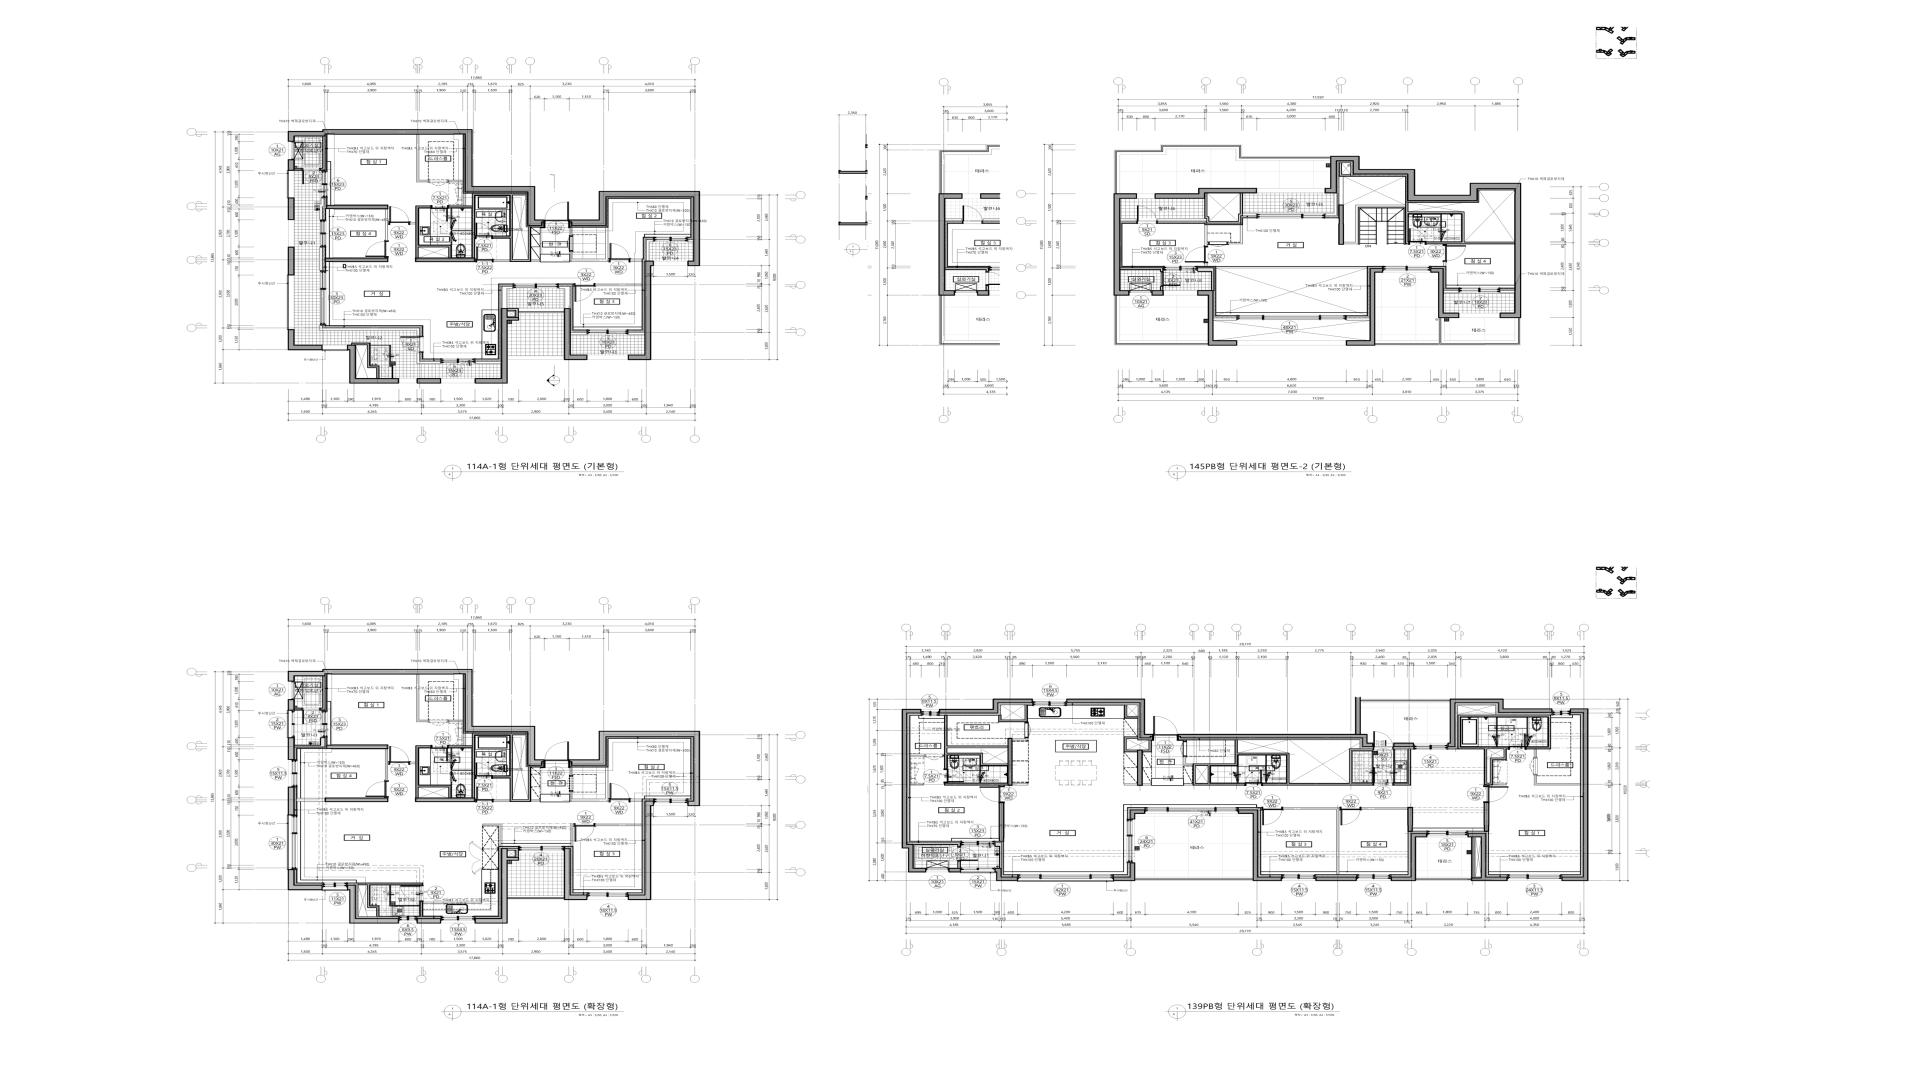door: (543, 742, 570, 769), (543, 203, 570, 228), (1153, 716, 1178, 741), (608, 783, 630, 803), (608, 243, 630, 262), (1484, 786, 1509, 803), (980, 786, 1005, 803), (1261, 807, 1283, 825), (388, 207, 410, 225), (365, 781, 389, 798), (1443, 244, 1466, 261), (1340, 807, 1361, 825), (1373, 767, 1394, 786), (1373, 732, 1394, 750), (574, 823, 595, 841), (388, 746, 409, 765), (574, 284, 595, 302), (1137, 206, 1158, 224), (400, 886, 423, 902), (365, 241, 389, 257), (400, 336, 423, 352), (1185, 247, 1208, 262), (475, 762, 493, 779), (302, 167, 320, 185), (1408, 228, 1427, 245), (957, 847, 978, 861), (943, 769, 964, 783), (1509, 733, 1526, 750), (431, 745, 448, 762), (475, 787, 493, 803), (302, 708, 320, 724), (475, 247, 493, 262), (475, 223, 493, 239), (1160, 272, 1180, 286), (1245, 770, 1262, 786), (431, 206, 448, 222), (1530, 758, 1538, 775), (429, 179, 448, 186), (924, 754, 944, 761), (429, 720, 448, 725), (1208, 241, 1228, 247), (1025, 723, 1031, 738)
wall: (1325, 156, 1522, 318), (287, 669, 543, 766), (287, 129, 543, 225), (1114, 145, 1331, 194), (570, 731, 700, 806), (570, 191, 700, 266), (1178, 698, 1373, 748), (1184, 740, 1373, 786), (1344, 202, 1514, 244), (1458, 715, 1551, 786), (448, 733, 539, 802), (448, 194, 539, 262), (1448, 699, 1552, 748), (1561, 708, 1589, 881), (1114, 295, 1208, 345), (1375, 318, 1520, 345), (902, 709, 926, 873), (1283, 807, 1340, 874), (475, 848, 520, 924), (944, 715, 1007, 769), (1067, 699, 1153, 738), (475, 309, 520, 384), (1238, 810, 1282, 881), (1346, 268, 1383, 345), (1158, 194, 1257, 223), (628, 800, 654, 901), (628, 261, 654, 360), (1113, 194, 1137, 295), (409, 745, 452, 798), (359, 882, 423, 916), (1197, 290, 1237, 345), (410, 206, 452, 257), (347, 885, 400, 924), (347, 345, 400, 384), (1468, 833, 1507, 881), (1391, 833, 1427, 881), (1431, 268, 1460, 318), (939, 699, 1033, 713), (570, 767, 608, 802), (570, 228, 608, 262), (564, 848, 588, 901), (564, 309, 587, 360), (1155, 189, 1257, 199), (319, 326, 419, 336), (351, 343, 380, 378), (287, 869, 322, 890), (287, 330, 322, 351), (1394, 749, 1411, 786), (417, 675, 429, 723), (417, 135, 429, 182), (1338, 162, 1352, 204), (998, 705, 1027, 723), (1534, 775, 1580, 786), (1135, 877, 1253, 881), (1113, 862, 1135, 881), (483, 824, 501, 847), (1197, 268, 1215, 290), (1361, 699, 1449, 703), (326, 257, 388, 262), (294, 737, 324, 748), (327, 204, 388, 210), (415, 257, 475, 262), (996, 868, 1018, 881), (1228, 225, 1244, 244), (1325, 194, 1337, 216), (501, 286, 513, 309), (998, 803, 1005, 843), (1007, 738, 1013, 786), (324, 798, 388, 802), (417, 353, 440, 364), (326, 745, 388, 749), (1137, 749, 1143, 786), (559, 286, 570, 309), (415, 798, 475, 802), (1124, 737, 1138, 753), (508, 895, 563, 899), (1416, 877, 1472, 881), (1338, 204, 1344, 245), (907, 843, 961, 847), (994, 843, 1002, 868), (1484, 803, 1490, 832), (287, 247, 294, 276), (1125, 704, 1138, 719), (287, 787, 294, 815), (320, 676, 326, 711), (320, 137, 326, 170), (944, 783, 1007, 786), (1130, 810, 1146, 820), (1121, 268, 1163, 272), (1407, 807, 1414, 832), (1316, 877, 1357, 881), (287, 737, 294, 760), (287, 198, 294, 220), (646, 240, 653, 261), (417, 918, 442, 923), (417, 378, 442, 384), (595, 284, 642, 286), (1361, 807, 1407, 810), (1143, 740, 1153, 753), (319, 198, 324, 220), (297, 798, 324, 802), (1472, 837, 1474, 878), (1394, 742, 1414, 748), (508, 848, 518, 857), (508, 309, 518, 318), (319, 247, 323, 270), (385, 749, 388, 781), (1204, 225, 1208, 247), (385, 210, 388, 241), (287, 699, 294, 711), (287, 160, 294, 171), (948, 868, 961, 873), (475, 361, 501, 364), (1151, 290, 1164, 295), (595, 824, 642, 825), (1213, 318, 1237, 320), (1346, 318, 1370, 320), (571, 824, 574, 847), (419, 902, 423, 916), (630, 258, 642, 262), (1121, 219, 1137, 222), (571, 332, 587, 335), (1013, 783, 1029, 786), (448, 720, 463, 723), (1444, 290, 1458, 293), (1501, 290, 1514, 293), (1124, 783, 1137, 786), (630, 799, 642, 802), (957, 861, 961, 868), (570, 767, 572, 775), (294, 167, 302, 170), (570, 228, 572, 236), (1143, 783, 1151, 786), (1013, 738, 1029, 740), (910, 756, 924, 757), (448, 181, 463, 182), (910, 785, 923, 786), (295, 708, 302, 711), (688, 240, 694, 243), (1444, 261, 1447, 266), (1160, 286, 1163, 290), (1205, 262, 1208, 266)
window: (1018, 874, 1113, 882), (286, 815, 298, 869), (1146, 807, 1238, 814), (1237, 315, 1346, 320), (1237, 340, 1346, 345), (286, 276, 294, 330), (1126, 820, 1135, 862), (518, 845, 564, 853), (1257, 214, 1325, 219), (1507, 874, 1561, 881), (320, 270, 326, 326), (1033, 699, 1067, 707), (1257, 189, 1325, 193), (1427, 831, 1468, 837), (587, 893, 628, 899), (654, 798, 687, 806), (289, 760, 298, 787), (1383, 266, 1431, 272), (286, 711, 295, 737), (513, 284, 559, 289), (518, 309, 563, 314), (1414, 744, 1448, 750), (1357, 874, 1391, 881), (1282, 874, 1316, 881), (1458, 287, 1501, 293), (323, 882, 347, 891), (508, 356, 563, 360), (442, 916, 475, 923), (587, 330, 628, 335), (587, 355, 628, 360), (286, 171, 294, 198), (961, 868, 996, 873), (440, 359, 475, 364), (961, 841, 994, 847), (320, 711, 327, 737), (654, 261, 687, 266), (442, 378, 475, 384), (1460, 314, 1499, 318), (653, 237, 688, 241), (322, 171, 327, 198), (320, 220, 326, 247), (289, 220, 294, 247), (1163, 266, 1197, 270), (322, 345, 347, 351), (1164, 291, 1197, 295), (1552, 709, 1571, 716), (922, 709, 939, 716), (400, 916, 417, 923), (1130, 290, 1151, 295), (1137, 194, 1155, 199), (289, 682, 294, 699), (289, 142, 294, 160), (400, 378, 417, 384), (926, 868, 948, 872)
